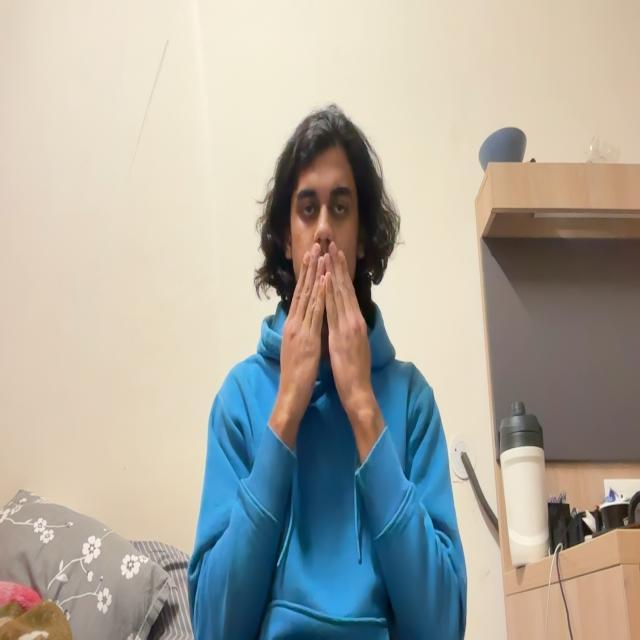Thanks: (265, 236, 397, 442)
